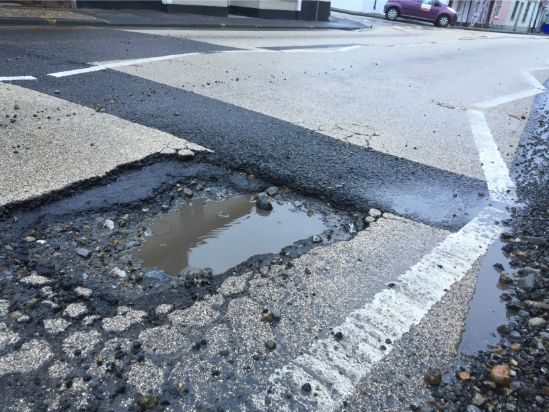pothole: (1, 142, 383, 314)
